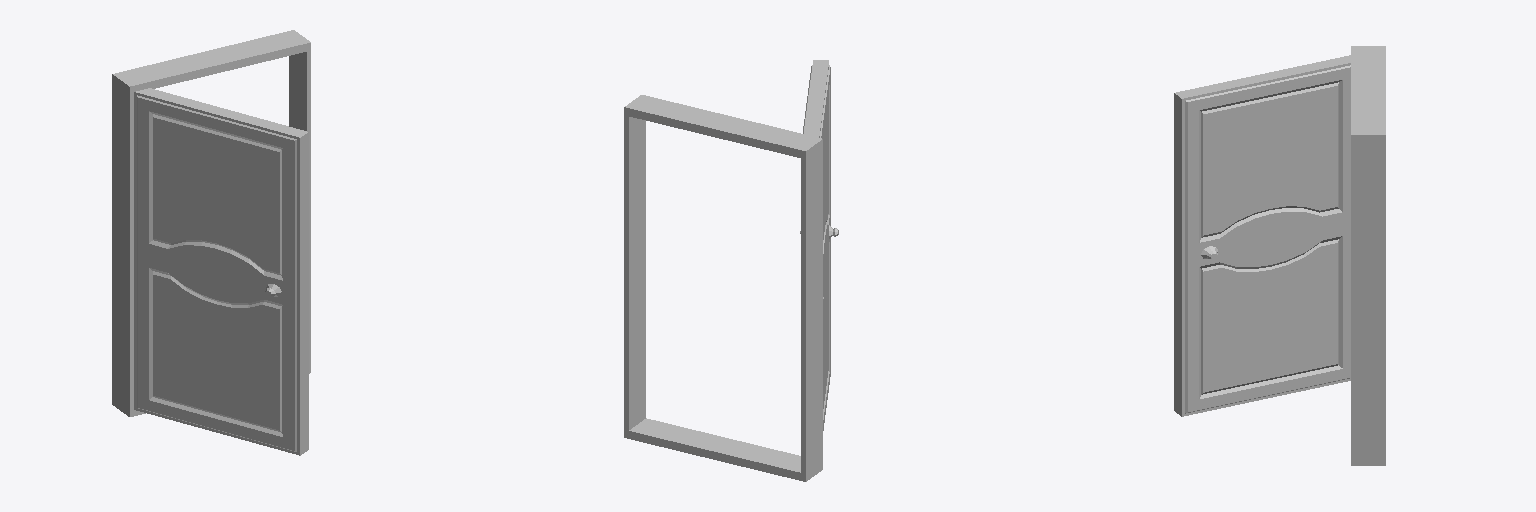
Rendered from drzwiok_000016.obj.
The picture shows the model from 3 angles: view 1: azimuth 30°, elevation 25°; view 2: azimuth 150°, elevation 25°; view 3: azimuth 270°, elevation 25°; orthographic projection.
Visible parts, largest first — view 1: Door_4.001_Cube.001, Kostka; view 2: Kostka, Door_4.001_Cube.001; view 3: Door_4.001_Cube.001, Kostka.
Part boxes in pixels (x1,y1,x2,y2): Door_4.001_Cube.001: (134,88,308,455); Kostka: (112,30,310,416); Kostka: (624,95,822,481); Door_4.001_Cube.001: (800,60,838,430); Door_4.001_Cube.001: (1174,55,1350,416); Kostka: (1351,46,1385,465).
Bounding box in the file's own units: 0.7416 × 1.29 × 0.7477.